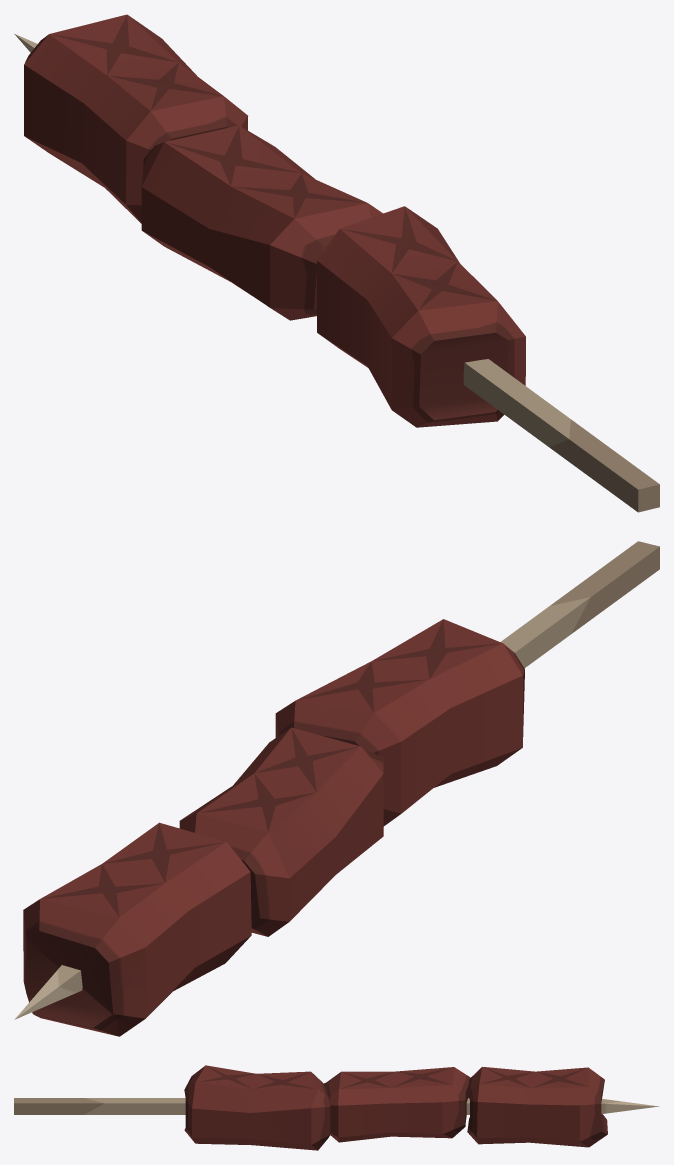
File: SM_Prop_Food_Sticks_01.fbx
3 renders of one model, top to bottom at view 1: azimuth 30°, elevation 25°; view 2: azimuth 150°, elevation 25°; view 3: azimuth 270°, elevation 25°, orthographic. The views are drawn at different scales.
Visible parts, largest first — view 1: SM_Prop_Food_Sticks_01; view 2: SM_Prop_Food_Sticks_01; view 3: SM_Prop_Food_Sticks_01.
Part boxes in pixels (left/top/right/bottom): SM_Prop_Food_Sticks_01: left=14, top=14, right=659, bottom=512; SM_Prop_Food_Sticks_01: left=14, top=541, right=659, bottom=1036; SM_Prop_Food_Sticks_01: left=14, top=1065, right=659, bottom=1150.
Size of the model in its own units: 8.05 by 5.98 by 57.18.
